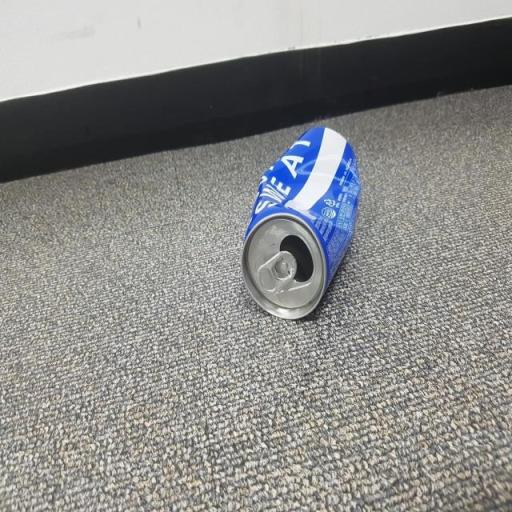metal: (231, 113, 365, 342)
